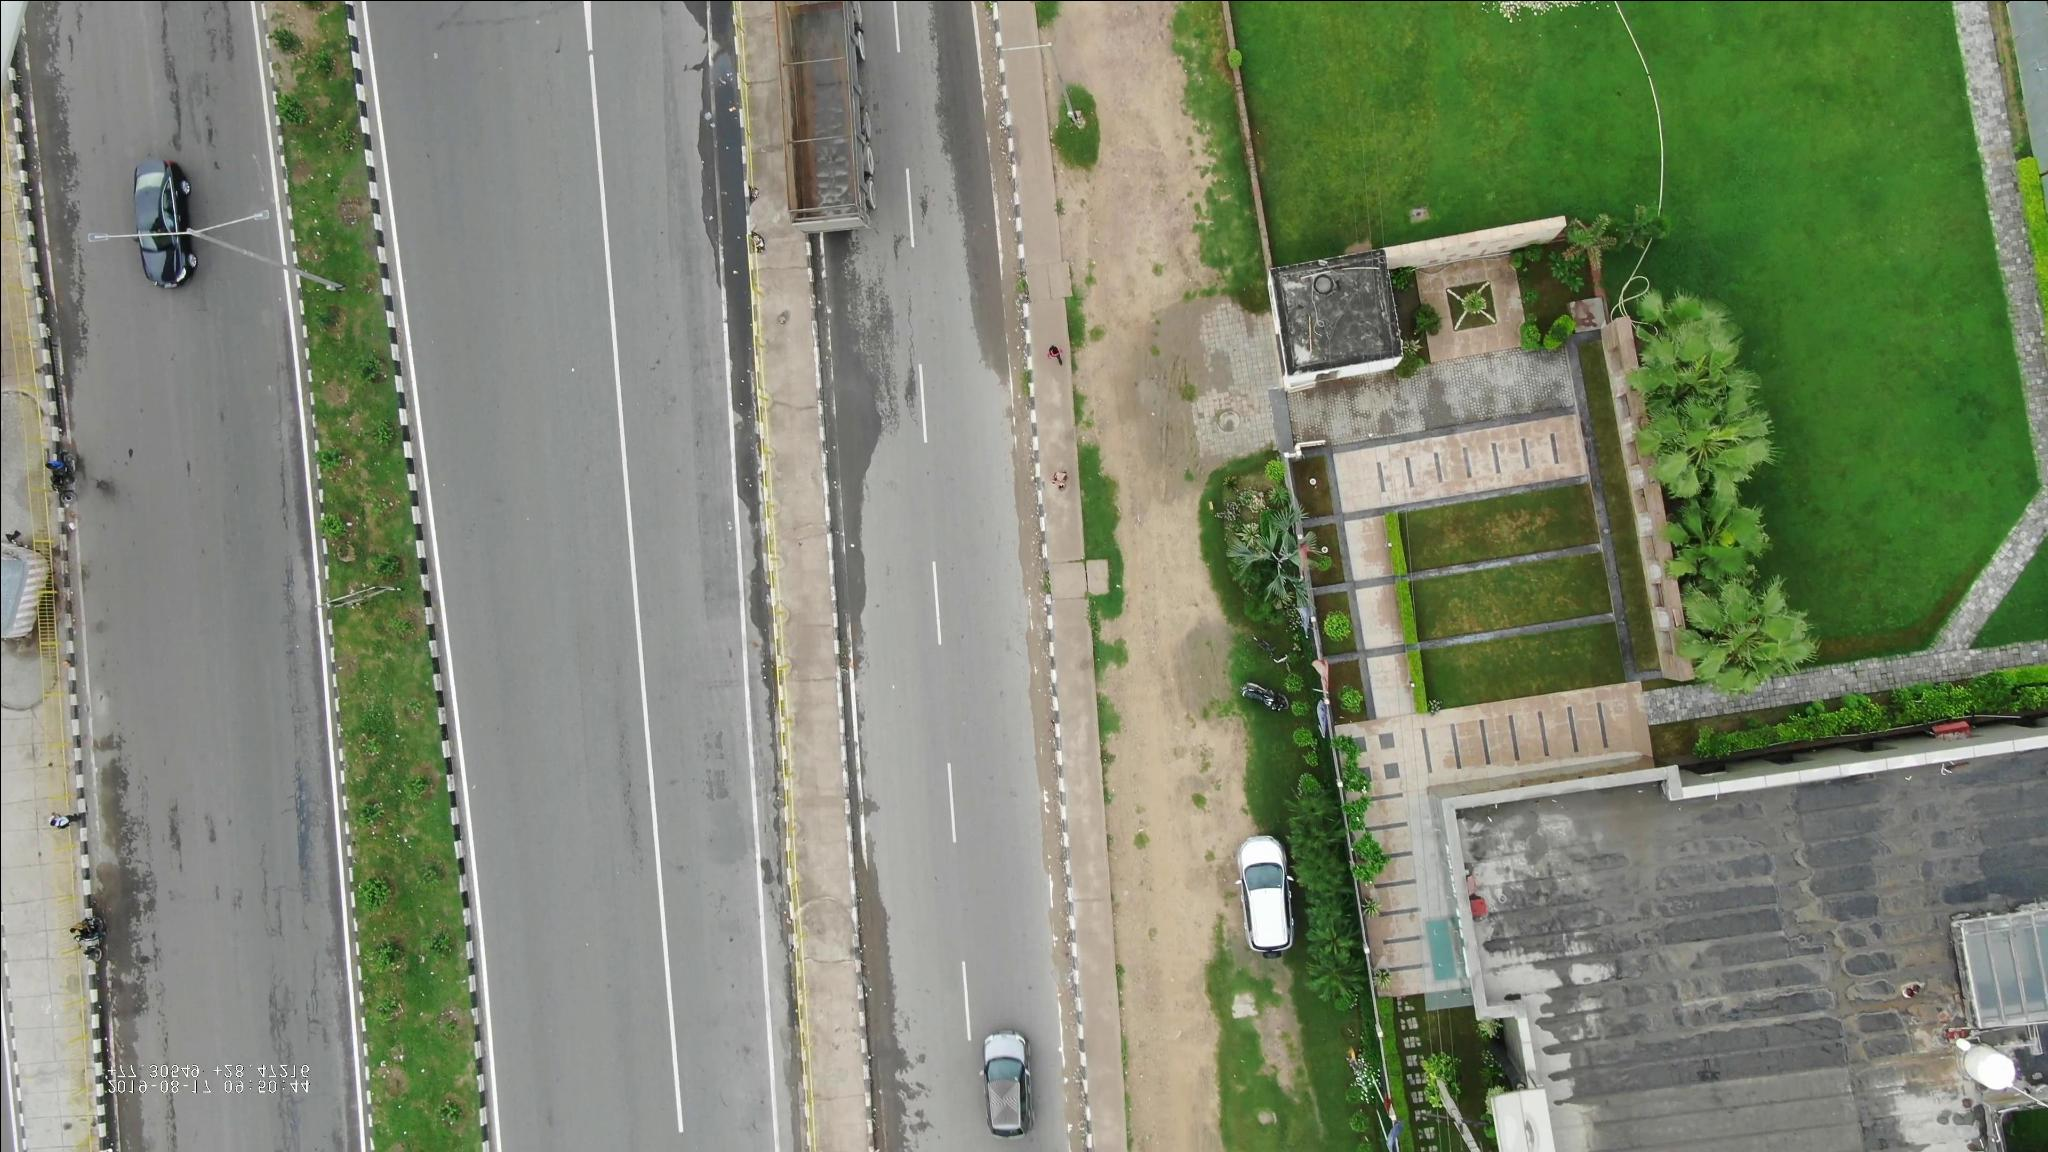Cracks: (259, 776, 339, 1137), (271, 460, 315, 744), (890, 283, 937, 447)
Ravelling: (146, 4, 241, 160)
Waterlogging: (688, 60, 755, 336)
